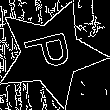P_E: (20, 30, 81, 78)
